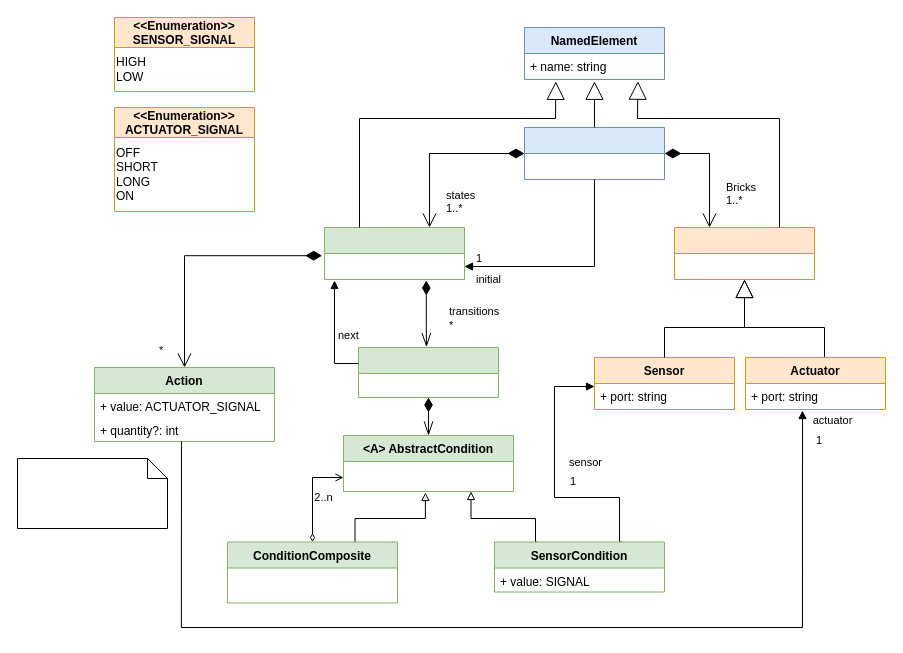
Some shapes in this 903 by 653 pixel diagram are drawn without their labels. The shapes that lost their labels are listed below. From the top down, each one's centre as x and y in pixels, then its label:
At point 594,153: "App".
At point 394,253: "State".
At point 744,253: "Brick".
At point 428,372: "Transition".
At point 92,493: "Quantity peut être remplacer par une classe fille RepeatableAction".
